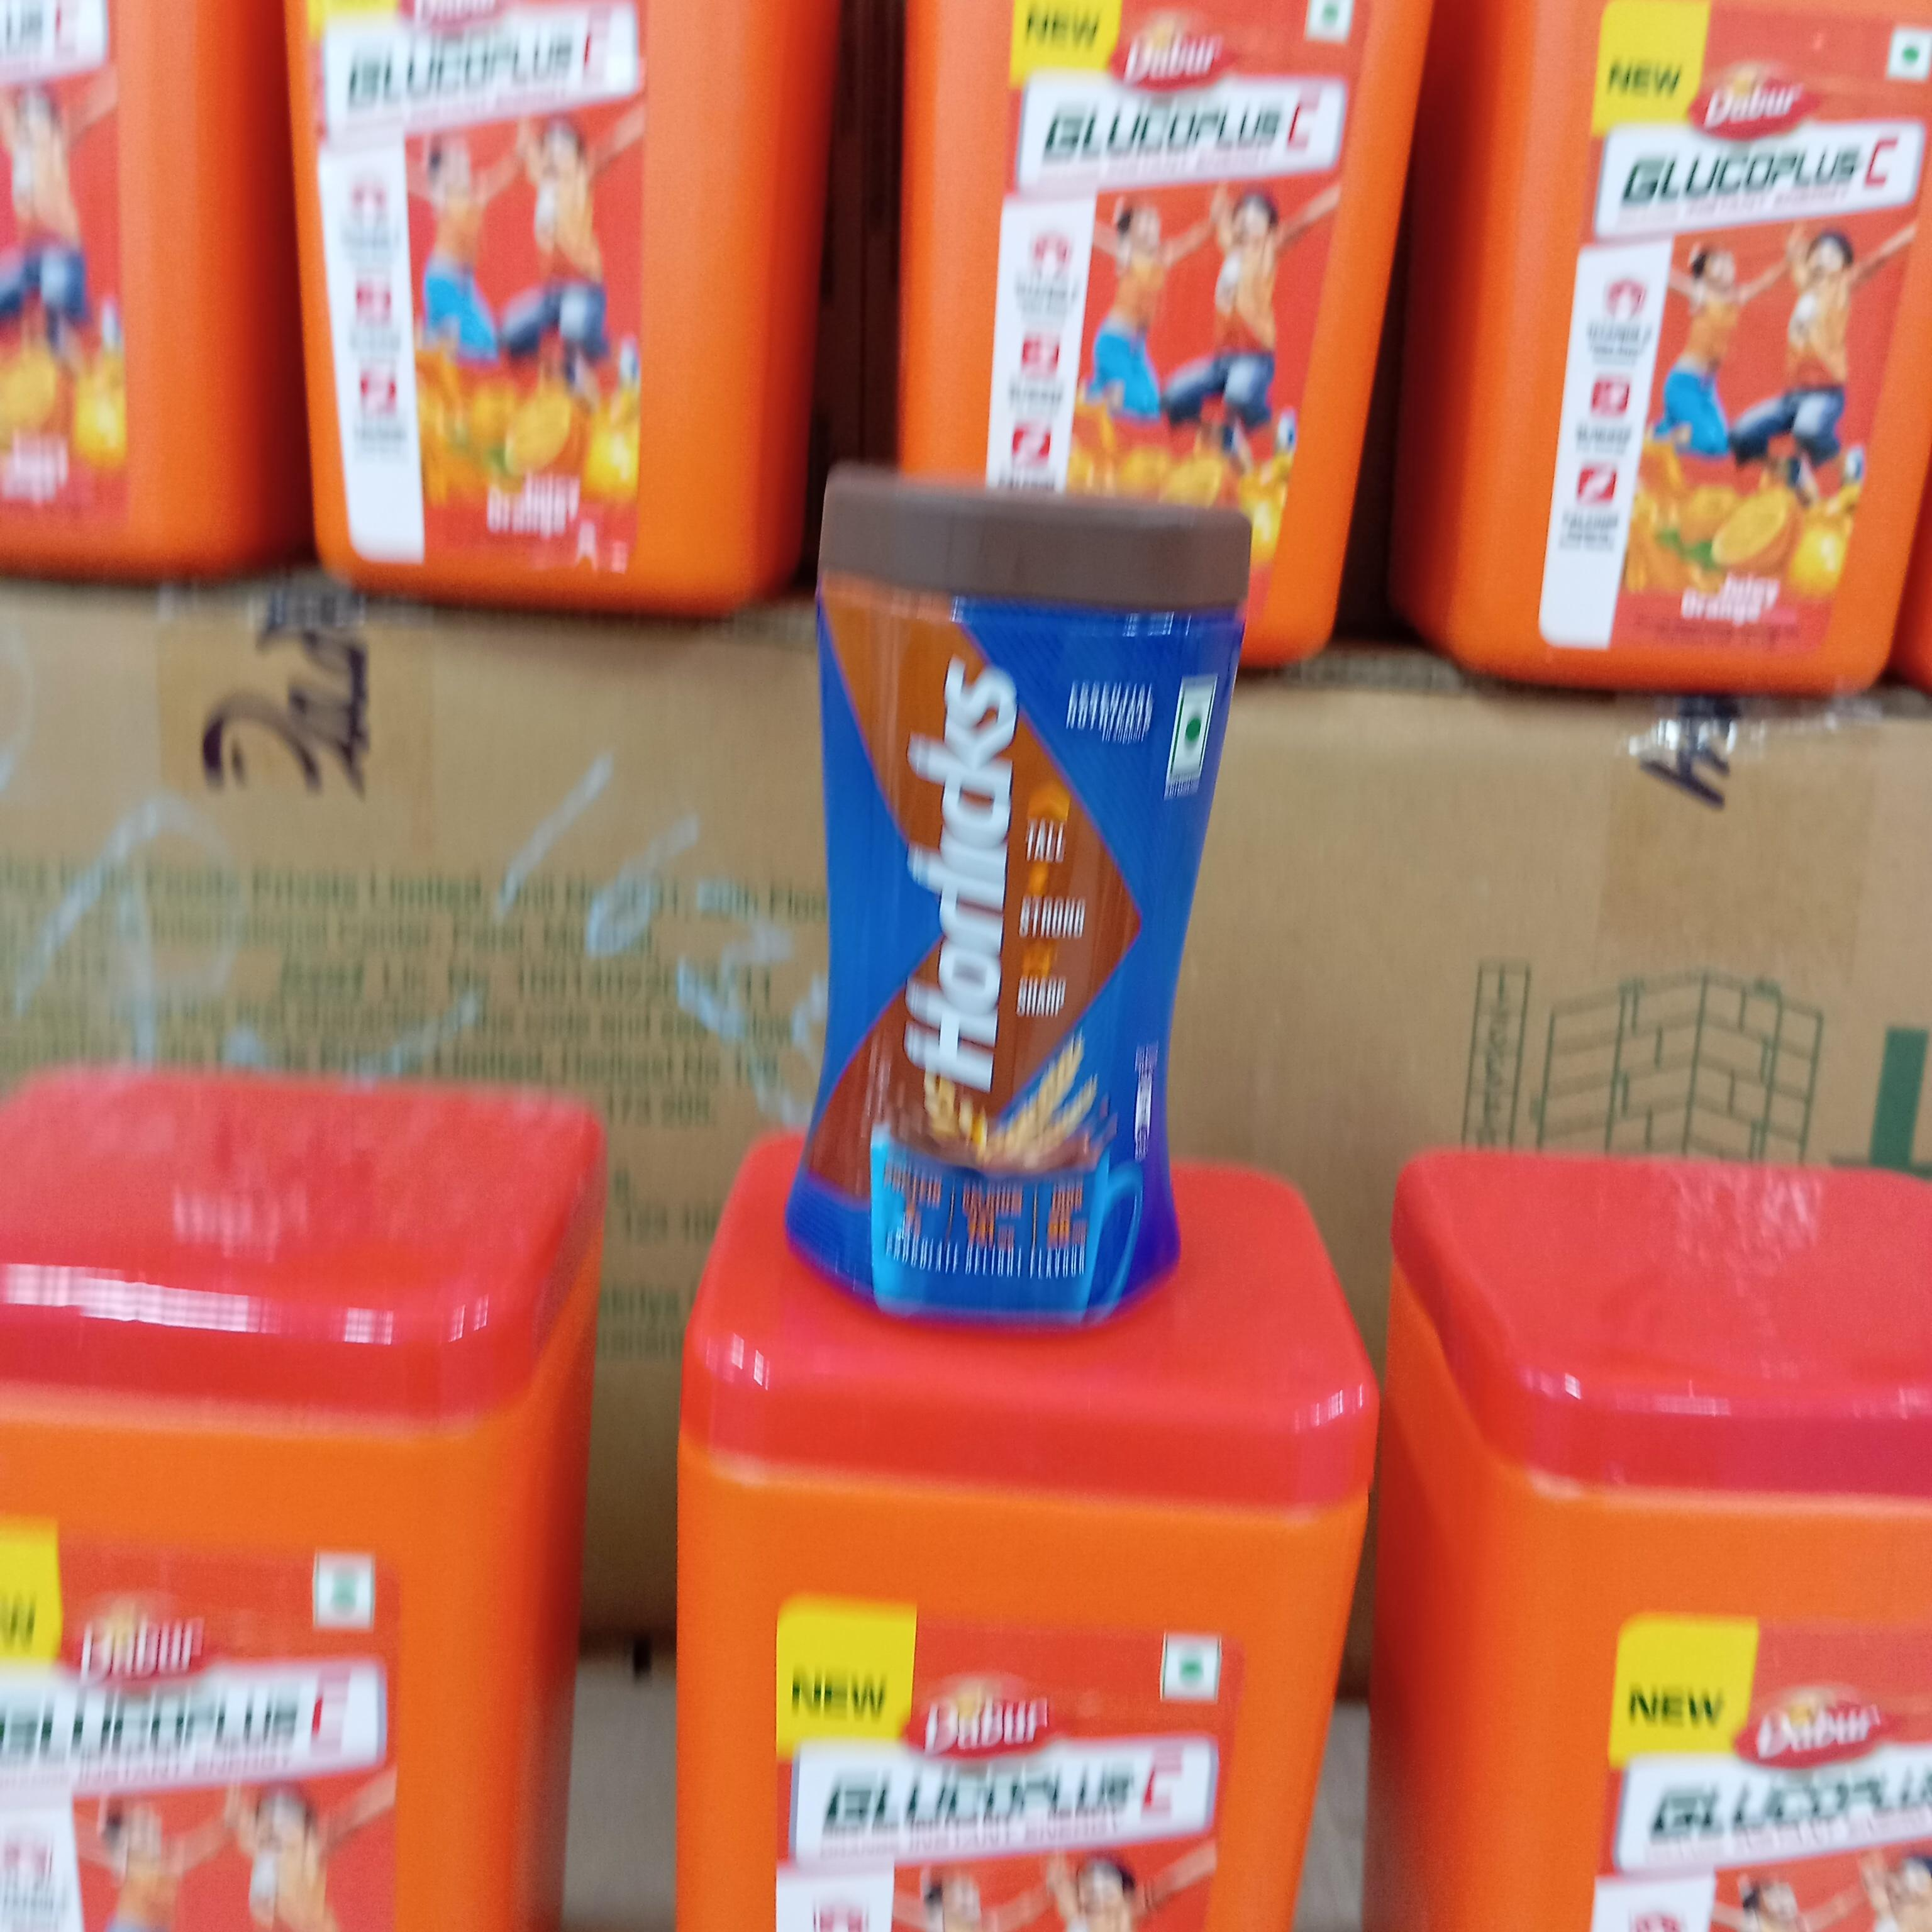HORLICK_CHOCOLATE_200_G_JAR: (823, 451, 1198, 1332)
